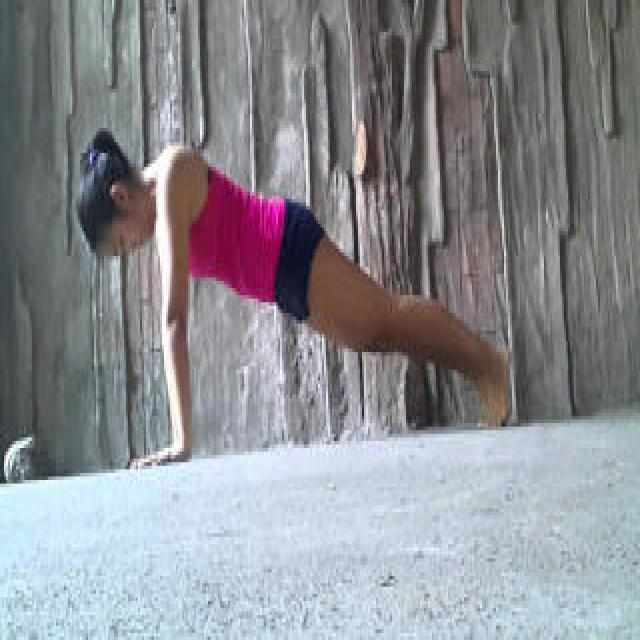yoga-pose plank: (63, 128, 513, 468)
